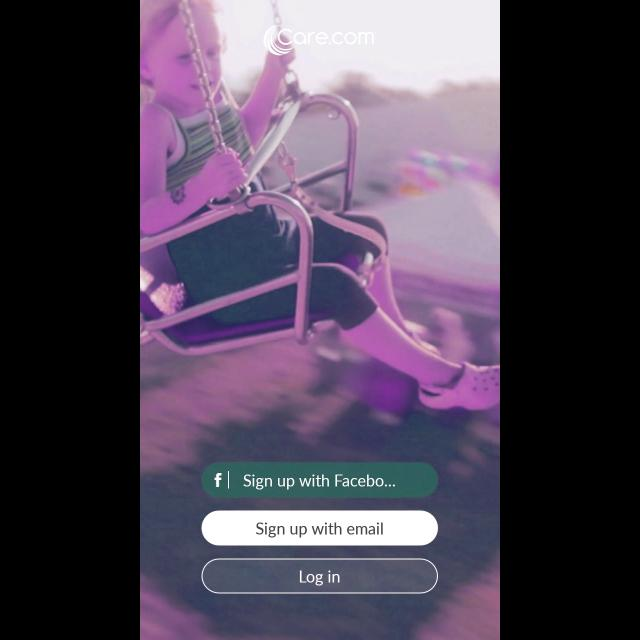backgroundimage: (140, 1, 500, 640)
image: (264, 25, 376, 57)
textbutton: (202, 558, 438, 594), (202, 510, 438, 546), (202, 462, 438, 498)
